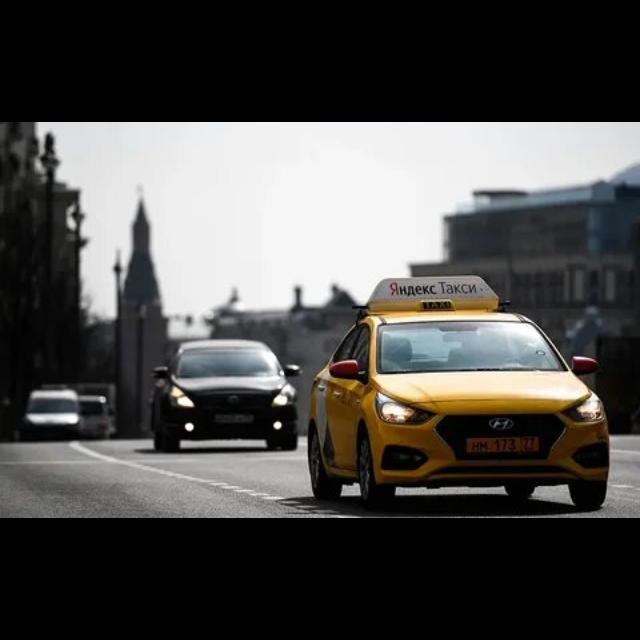taxi: (306, 274, 610, 511)
